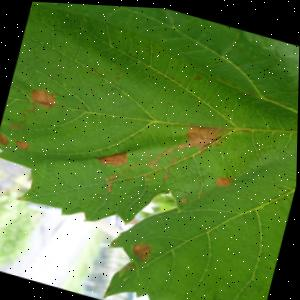Folha: (0, 0, 300, 300)
Fungo: (142, 105, 229, 184), (178, 161, 235, 214), (174, 112, 229, 158), (93, 141, 131, 169), (26, 84, 60, 111), (130, 237, 154, 262), (101, 169, 120, 192), (213, 170, 234, 188), (103, 169, 120, 182), (14, 138, 31, 150), (36, 100, 54, 110), (0, 131, 11, 146), (8, 122, 25, 131), (105, 179, 115, 192), (161, 169, 171, 182), (192, 72, 203, 79), (170, 153, 179, 161), (180, 194, 188, 202), (103, 174, 111, 180), (206, 75, 213, 81), (0, 116, 5, 124)
